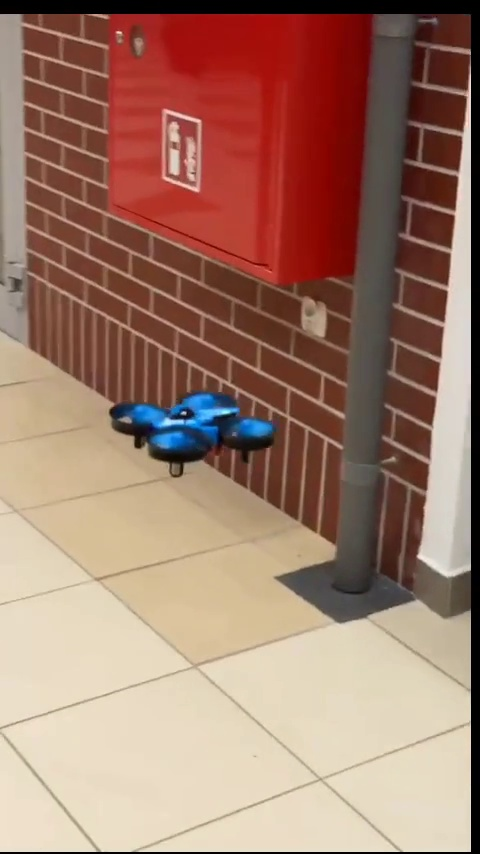drone: (108, 386, 280, 483)
